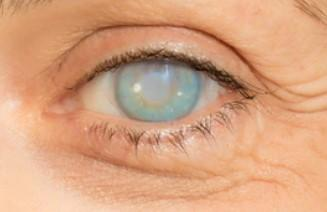eye: (115, 59, 204, 124)
